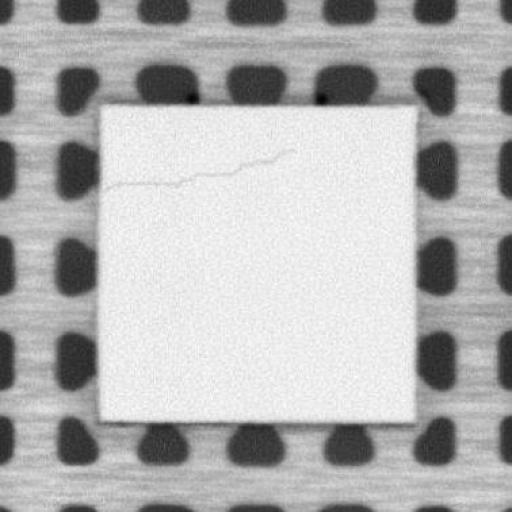DIE_CRACK: (103, 145, 295, 189)
